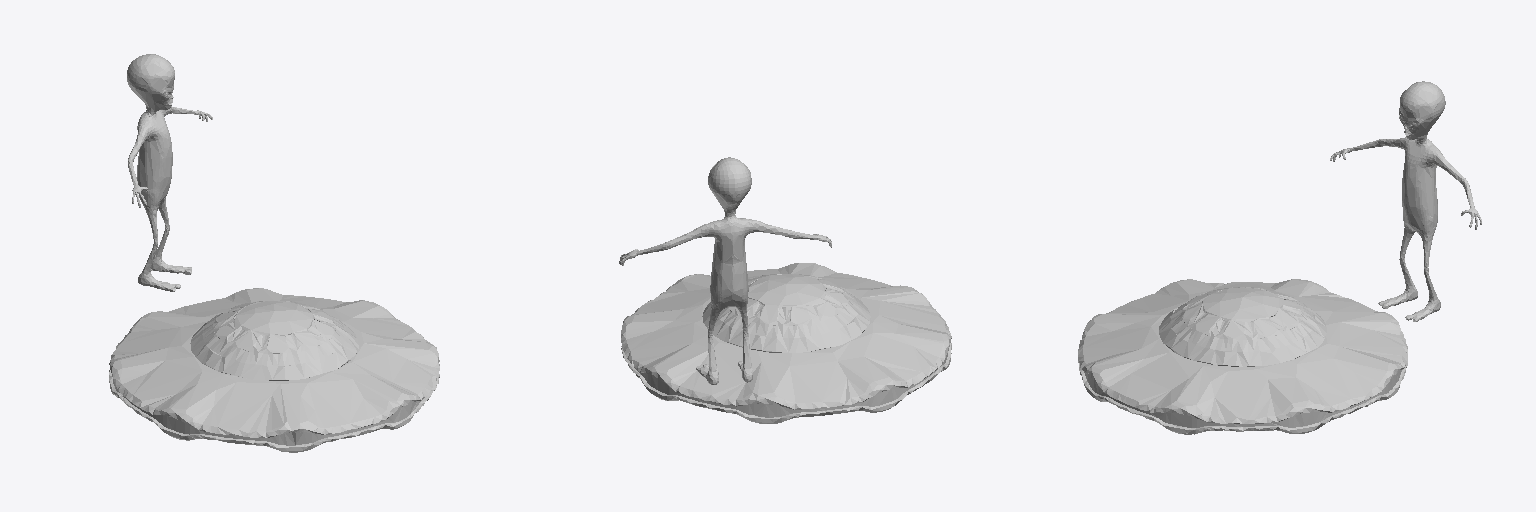
File: frame_074.obj
3 views of the same model, side by side, from view 1: azimuth 30°, elevation 25°; view 2: azimuth 150°, elevation 25°; view 3: azimuth 270°, elevation 25° (orthographic).
Parts seen in each view (by area): view 1: 13884_UFO_Saucer_v1_l2, 10469_GrayAlien_v01; view 2: 13884_UFO_Saucer_v1_l2, 10469_GrayAlien_v01; view 3: 13884_UFO_Saucer_v1_l2, 10469_GrayAlien_v01.
Boxes of the visible parts, x1=… form: 13884_UFO_Saucer_v1_l2: x1=109, y1=288, x2=439, y2=452; 10469_GrayAlien_v01: x1=127, y1=54, x2=212, y2=291; 13884_UFO_Saucer_v1_l2: x1=621, y1=263, x2=951, y2=423; 10469_GrayAlien_v01: x1=619, y1=157, x2=831, y2=384; 13884_UFO_Saucer_v1_l2: x1=1078, y1=279, x2=1407, y2=434; 10469_GrayAlien_v01: x1=1330, y1=81, x2=1481, y2=321.
Bounding box in the file's own units: 12.69 × 13.26 × 15.54.